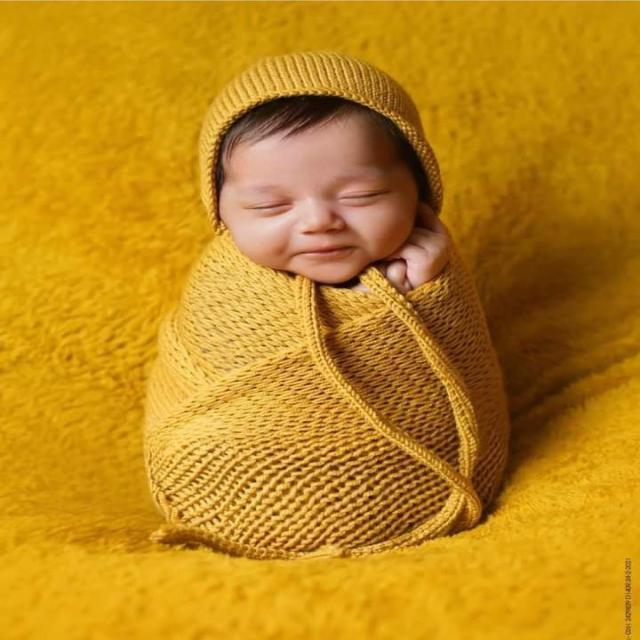non-dog: (141, 51, 511, 560)
